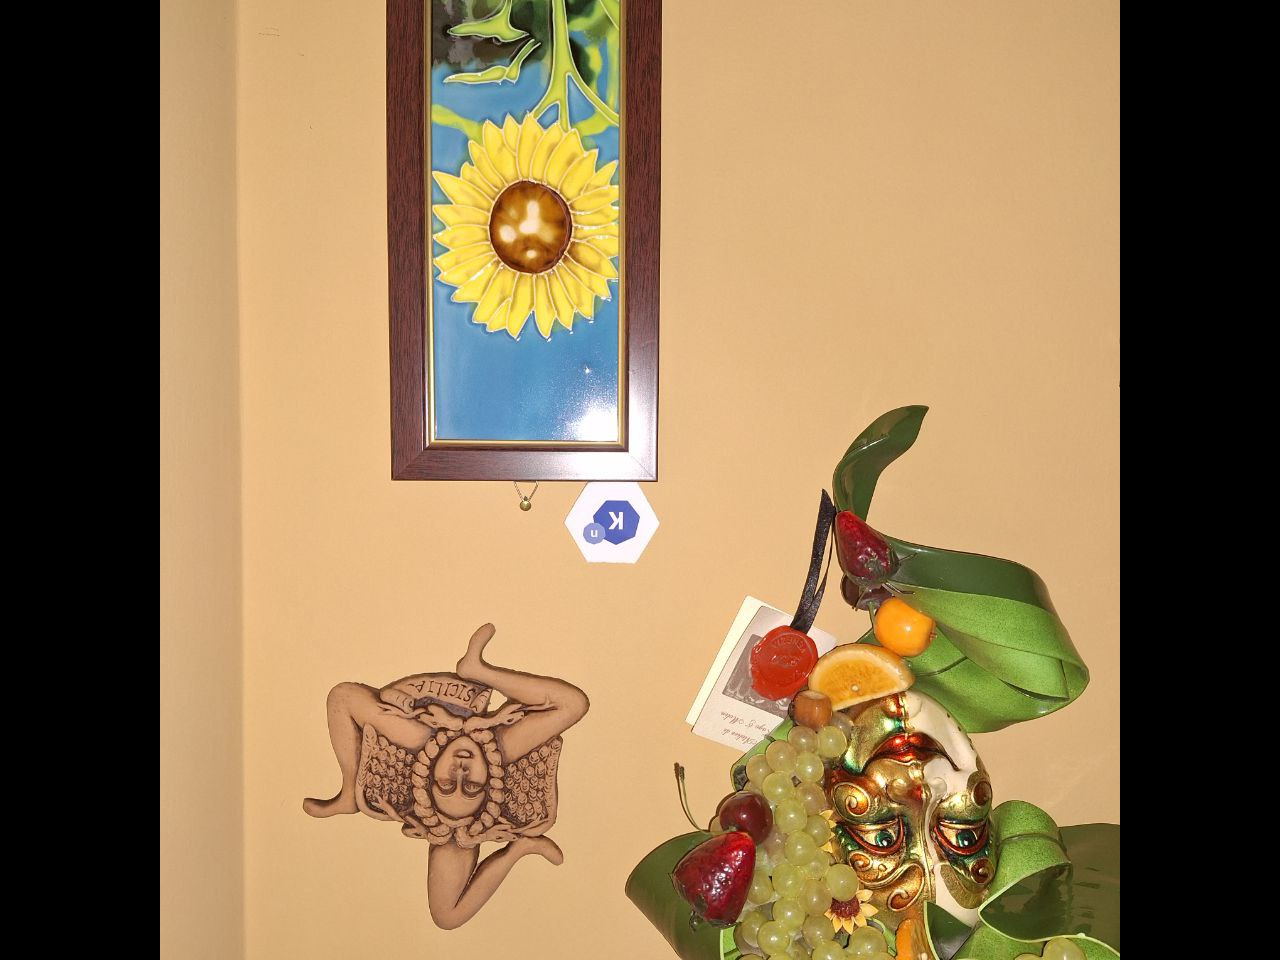knative: (586, 499, 639, 547)
